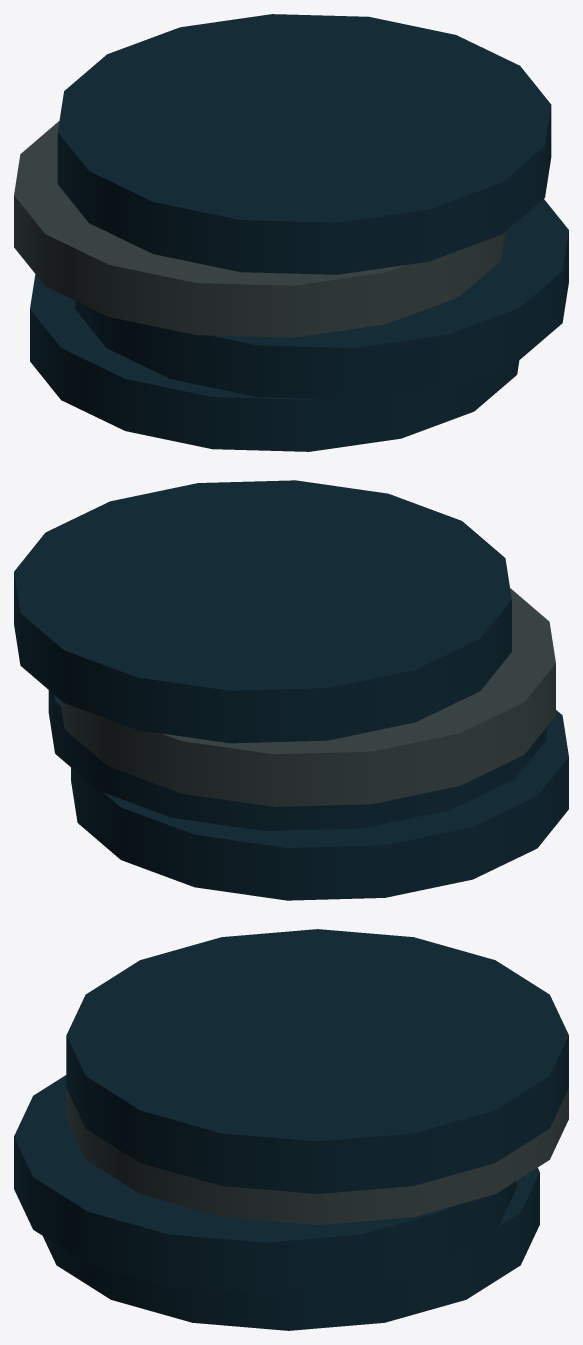
The model's file is RS_nr_plastic.fbx.
3 renders of one model, top to bottom at view 1: azimuth 30°, elevation 25°; view 2: azimuth 150°, elevation 25°; view 3: azimuth 270°, elevation 25°, orthographic.
Parts seen in each view (by area): view 1: RS_nr_plastic; view 2: RS_nr_plastic; view 3: RS_nr_plastic.
Boxes of the visible parts, x1,y1,x2,y2 form: RS_nr_plastic: (14, 14, 568, 451); RS_nr_plastic: (14, 480, 568, 900); RS_nr_plastic: (14, 929, 568, 1330).
Bounding box in the file's own units: 23.08 × 9.67 × 23.14.
